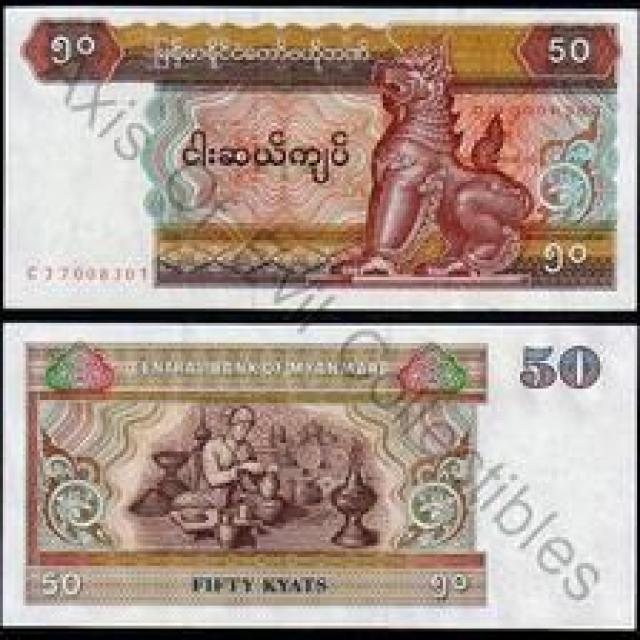banknote: (4, 320, 631, 628), (3, 12, 637, 308)
